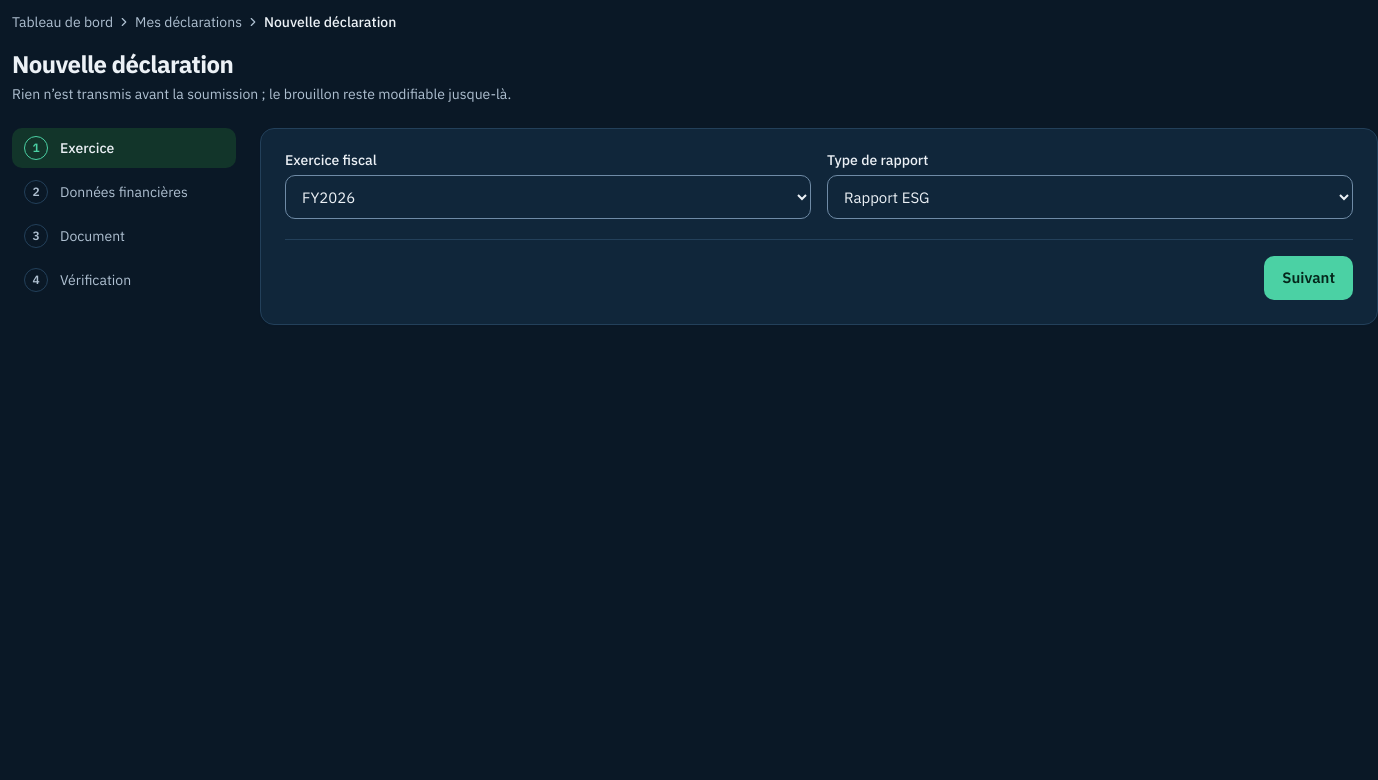
Test: Nouvelle déclaration — assistant › ne propose plus un exercice validé ; un montant négatif est refusé
The width and height of the screenshot is (1378, 780).
Click the button "Suivant" at (1309, 278), box [1264,256,1353,300]
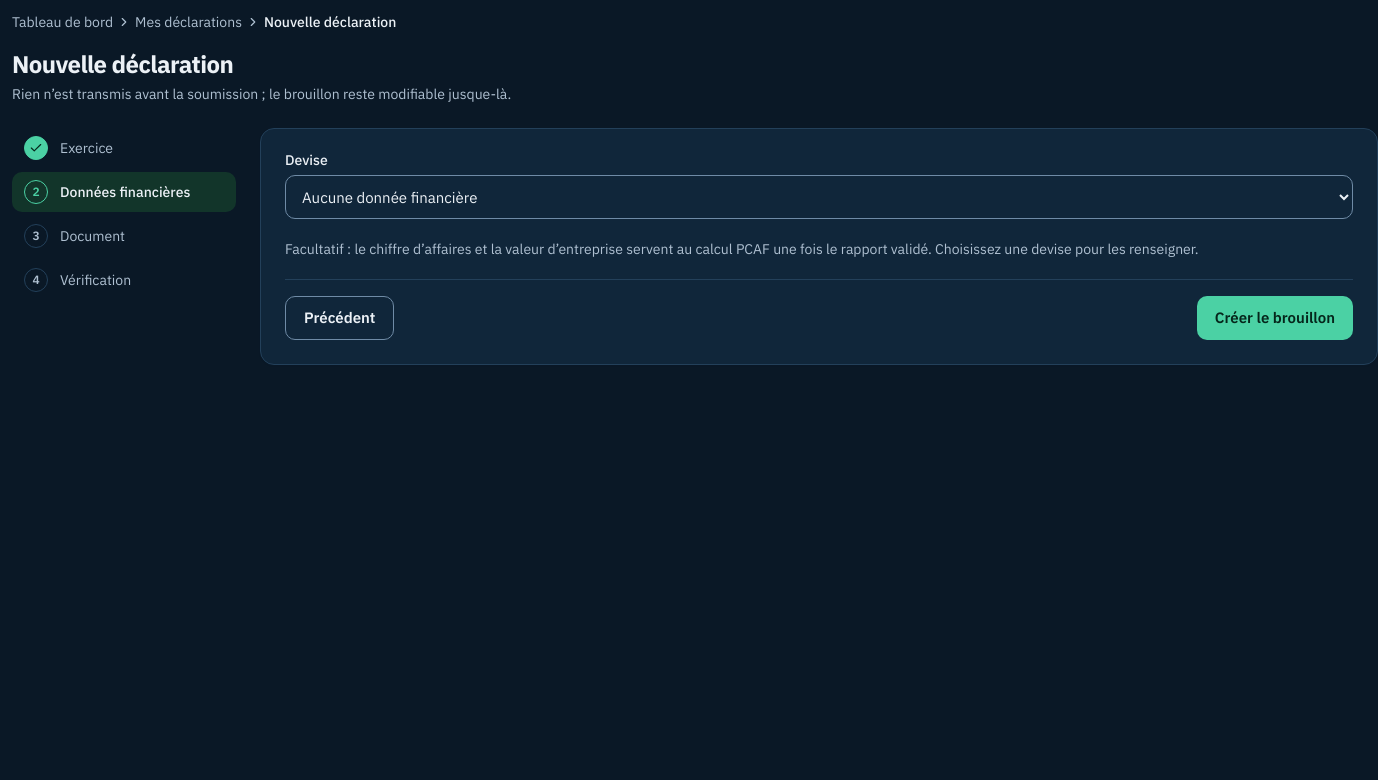
Select "MRU" in the dropdown labelled "Devise" at (819, 197), box [285,175,1353,219]
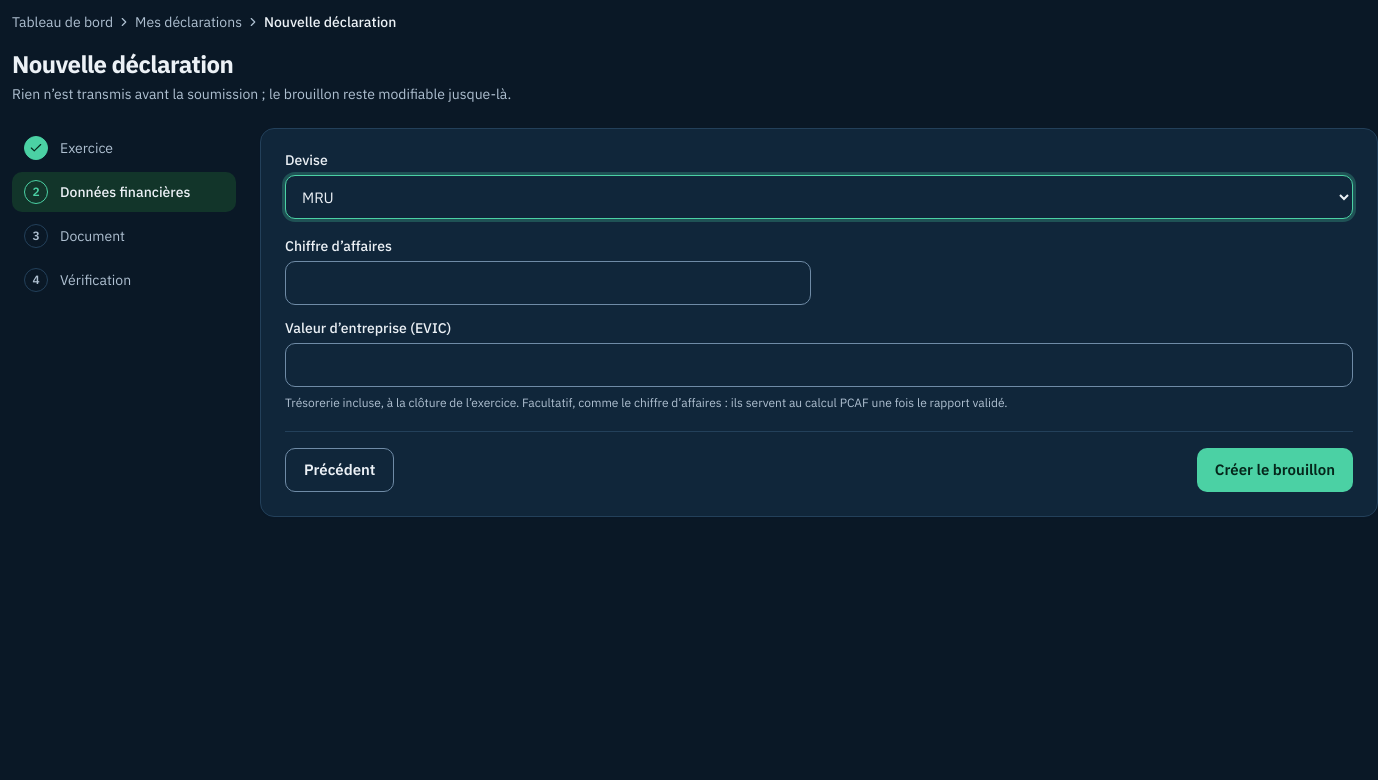
Type "-5" into the number field labelled "Valeur d’entreprise (EVIC)" at (819, 365), box [285,343,1353,387]
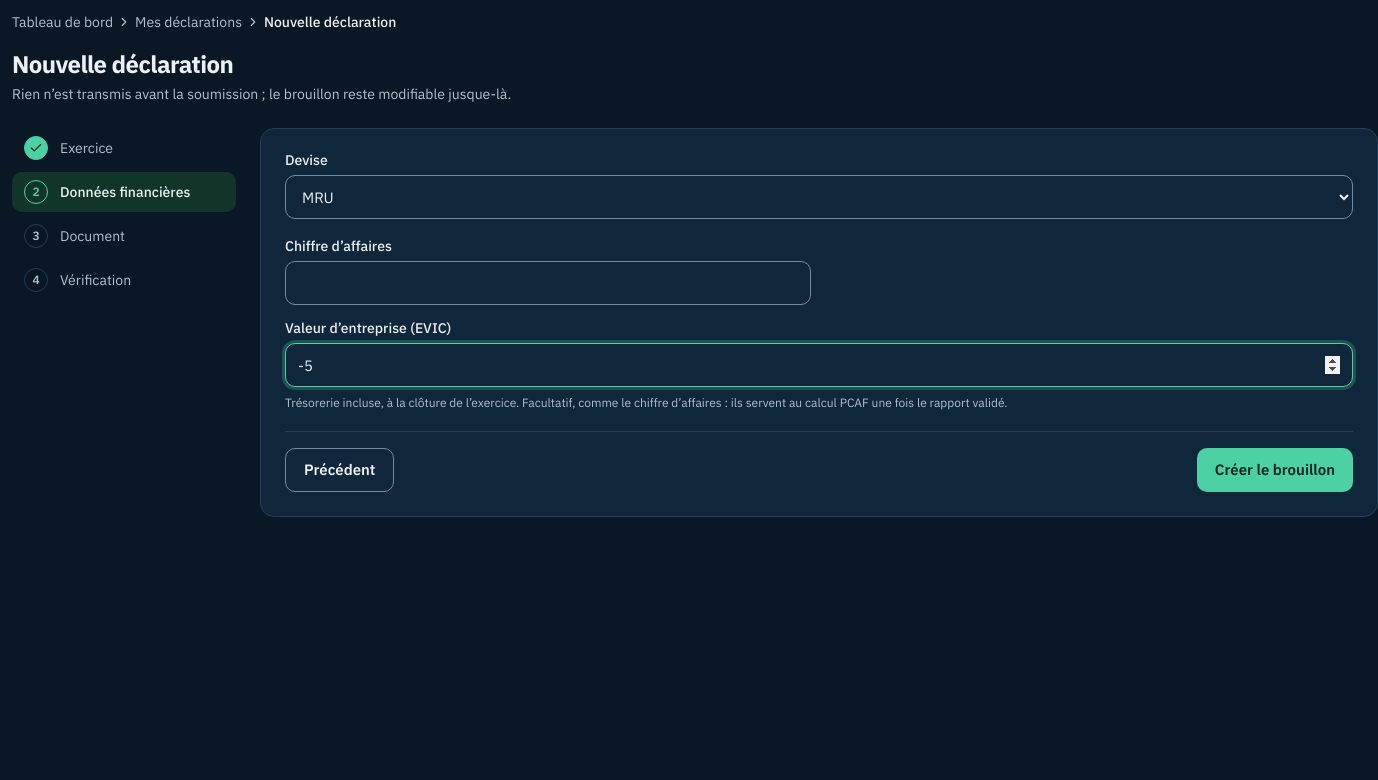
Click the button "Créer le brouillon" at (1275, 470), box [1197,448,1353,492]
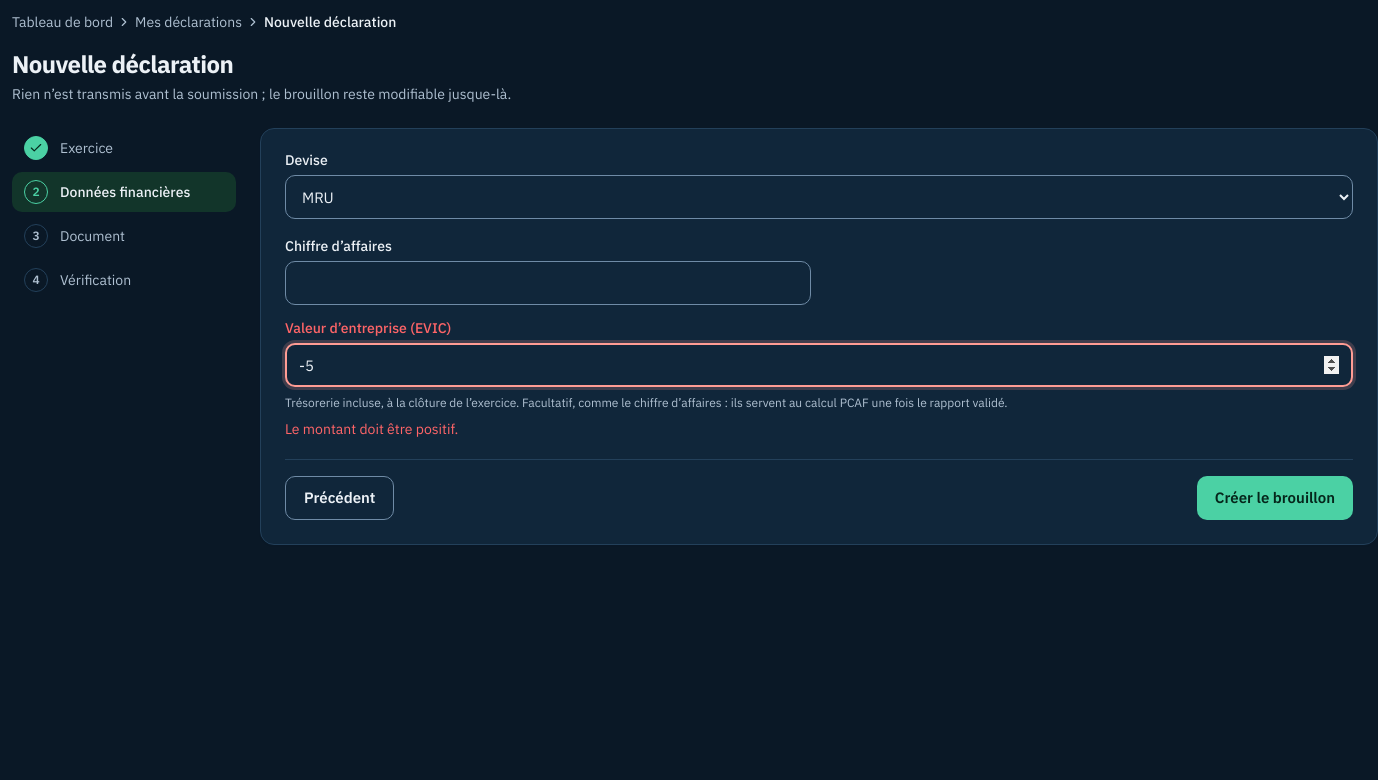
Now the text "Le montant doit être positif." is shown, box [285,420,458,438]
